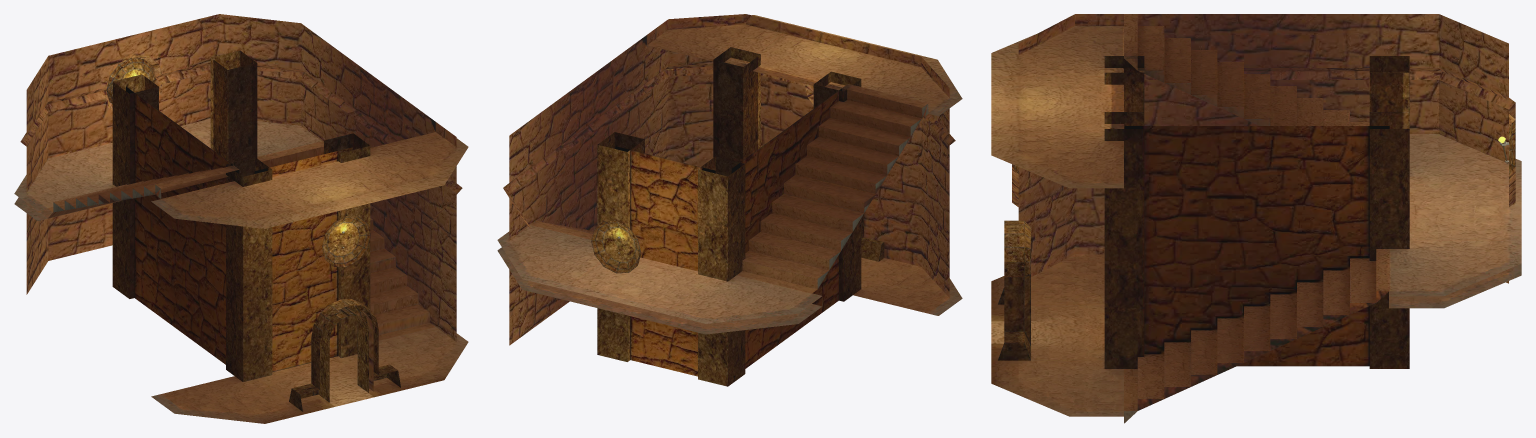
Rendered from Stairs-transformed.glb.
The picture shows the model from 3 angles, left to right: view 1: azimuth 30°, elevation 25°; view 2: azimuth 150°, elevation 25°; view 3: azimuth 270°, elevation 25°; orthographic projection. The views are drawn at different scales.
Visible parts, largest first — view 1: upperwALL, floor2, DETAILS, upperwALL.003, stairs; view 2: upperwALL, floor2, DETAILS, stairs, upperwALL.003; view 3: floor2, upperwALL.003, upperwALL, DETAILS, stairs.
Boxes of the visible parts, x1,y1,x2,y2 form: upperwALL: (20,14,462,391); floor2: (14,119,468,423); DETAILS: (106,50,400,411); upperwALL.003: (126,87,352,371); stairs: (48,141,434,340); upperwALL: (503,14,955,345); floor2: (497,15,962,334); DETAILS: (591,47,884,386); stairs: (531,84,928,293); upperwALL.003: (615,88,841,376); floor2: (991,26,1521,416); upperwALL.003: (1124,126,1389,366); upperwALL: (1012,14,1515,283); DETAILS: (998,56,1515,368); stairs: (1124,14,1389,423).
Size of the model in its own units: 3 by 2.11 by 4.
8 materials, 7 textured.
